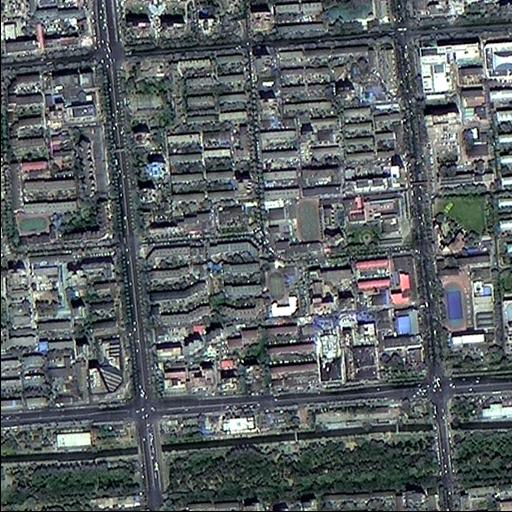school: (262, 196, 322, 256), (265, 262, 301, 320), (12, 211, 60, 249)
